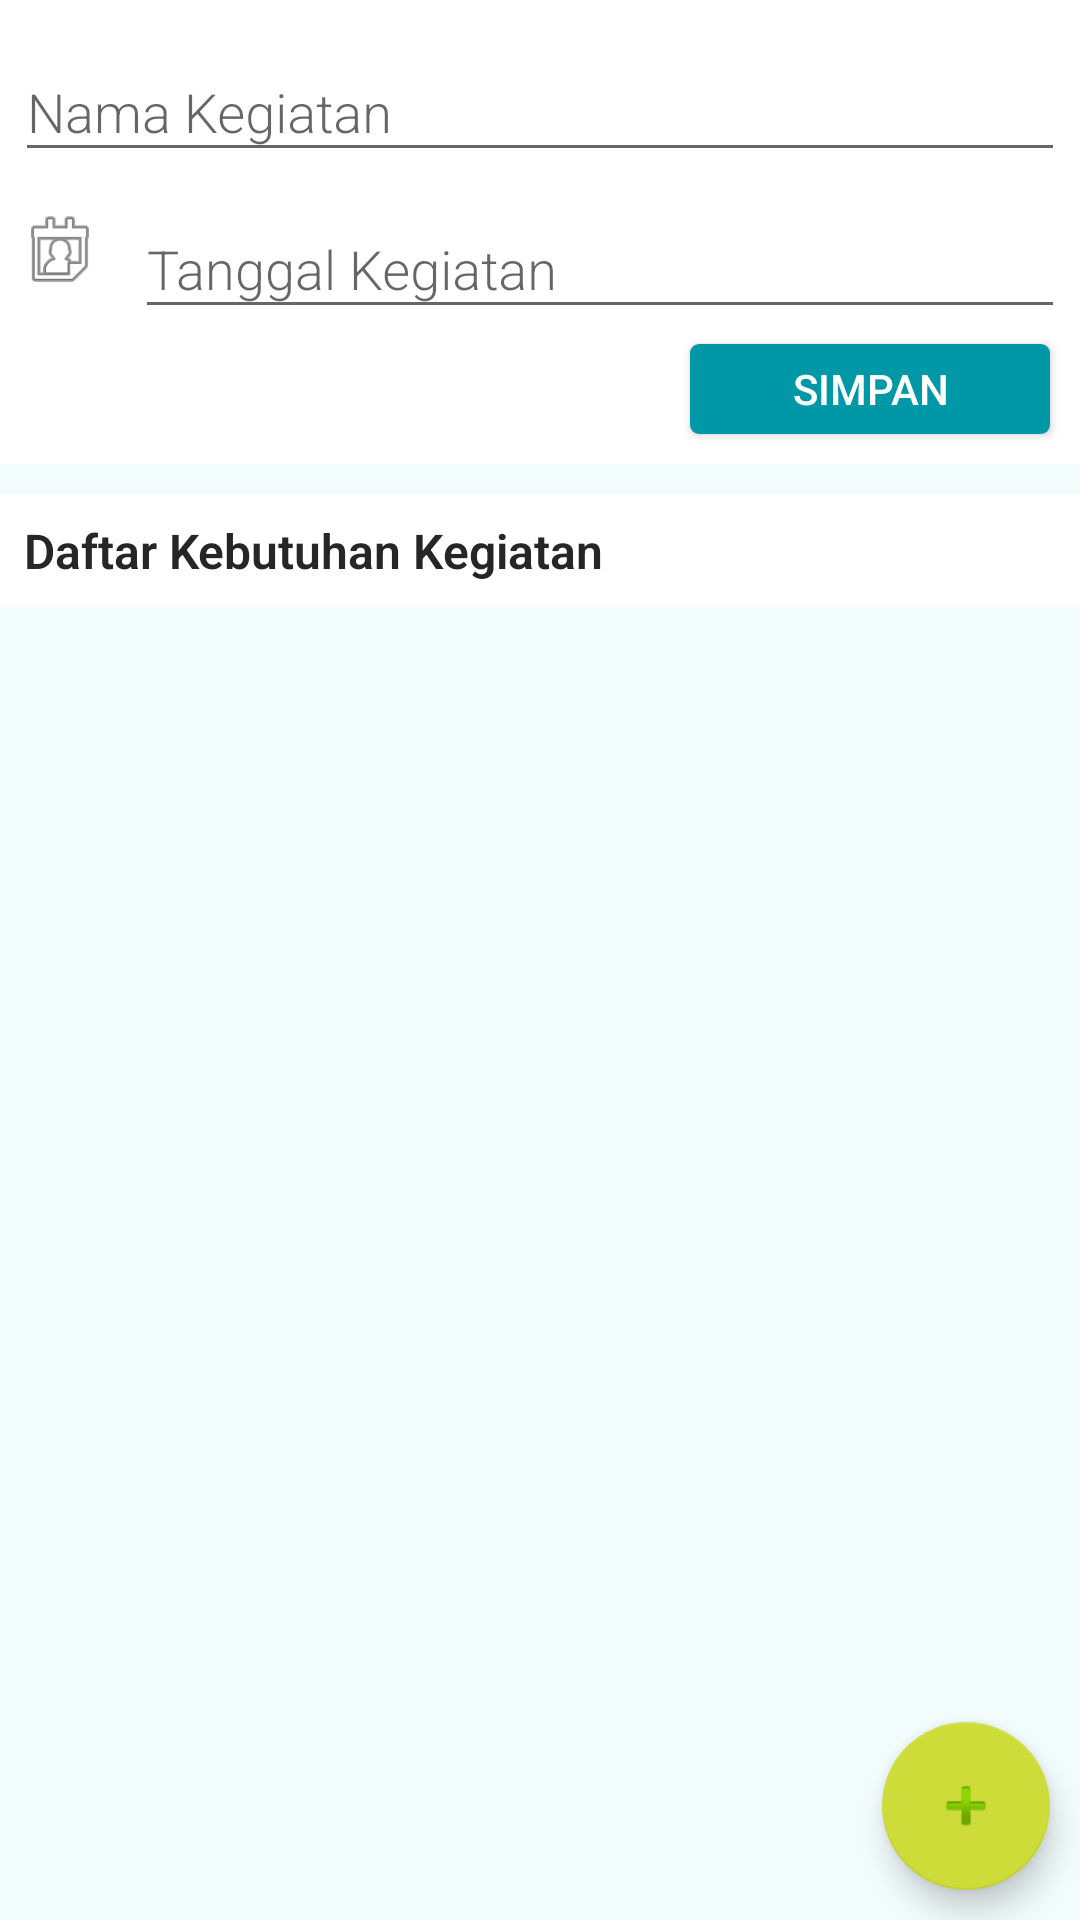

Screen size 1080px x 1920px. Icon name, then its center in pixels as (x,y):
add: (966,1806)
calendar: (60,249)
